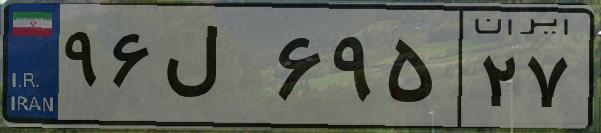2: (475, 38, 525, 113)
5: (385, 28, 445, 110)
6: (270, 28, 330, 110), (110, 28, 158, 98)
7: (525, 38, 570, 115)
9: (330, 28, 385, 110), (57, 26, 110, 100)
ل: (158, 20, 270, 120)
